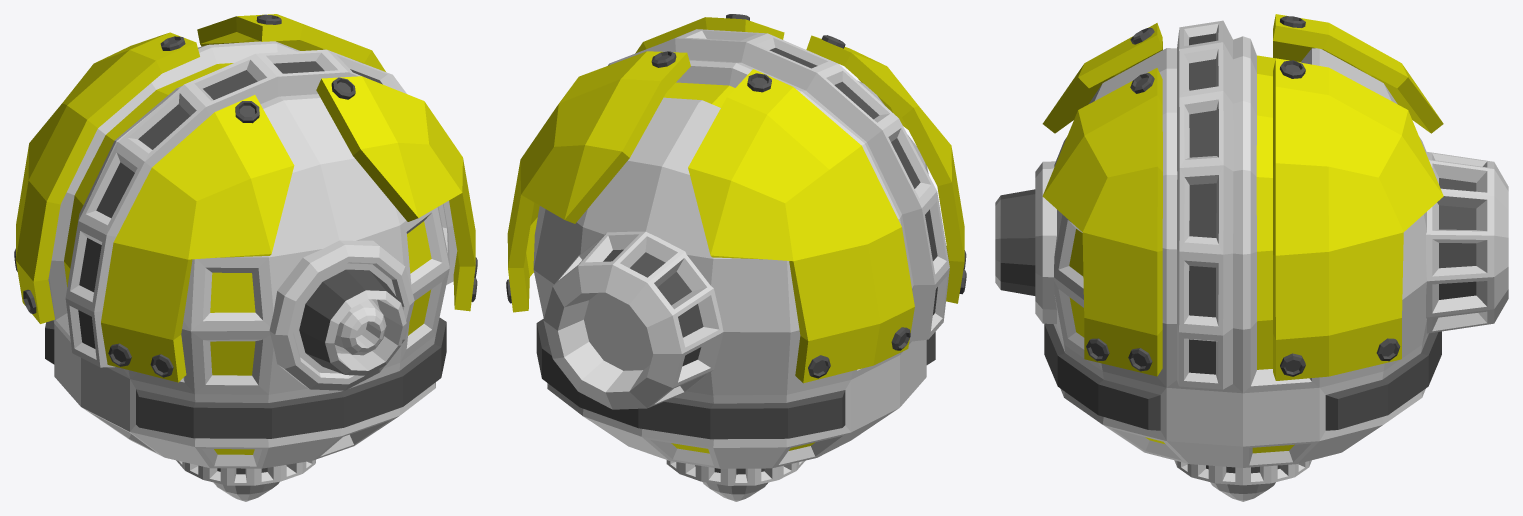
The model's file is tower5_2.fbx.
The picture shows the model from 3 angles, left to right: view 1: azimuth 30°, elevation 25°; view 2: azimuth 150°, elevation 25°; view 3: azimuth 270°, elevation 25°; orthographic projection.
Visible parts, largest first — view 1: polySurface123; view 2: polySurface123; view 3: polySurface123.
Part boxes in pixels (box(x1,y1,x2,y2)): polySurface123: box(14, 14, 477, 501); polySurface123: box(506, 14, 966, 501); polySurface123: box(995, 14, 1508, 501).
Size of the model in its own units: 0.6472 by 0.7211 by 0.7275.
